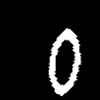chain: (49, 29, 80, 95)
